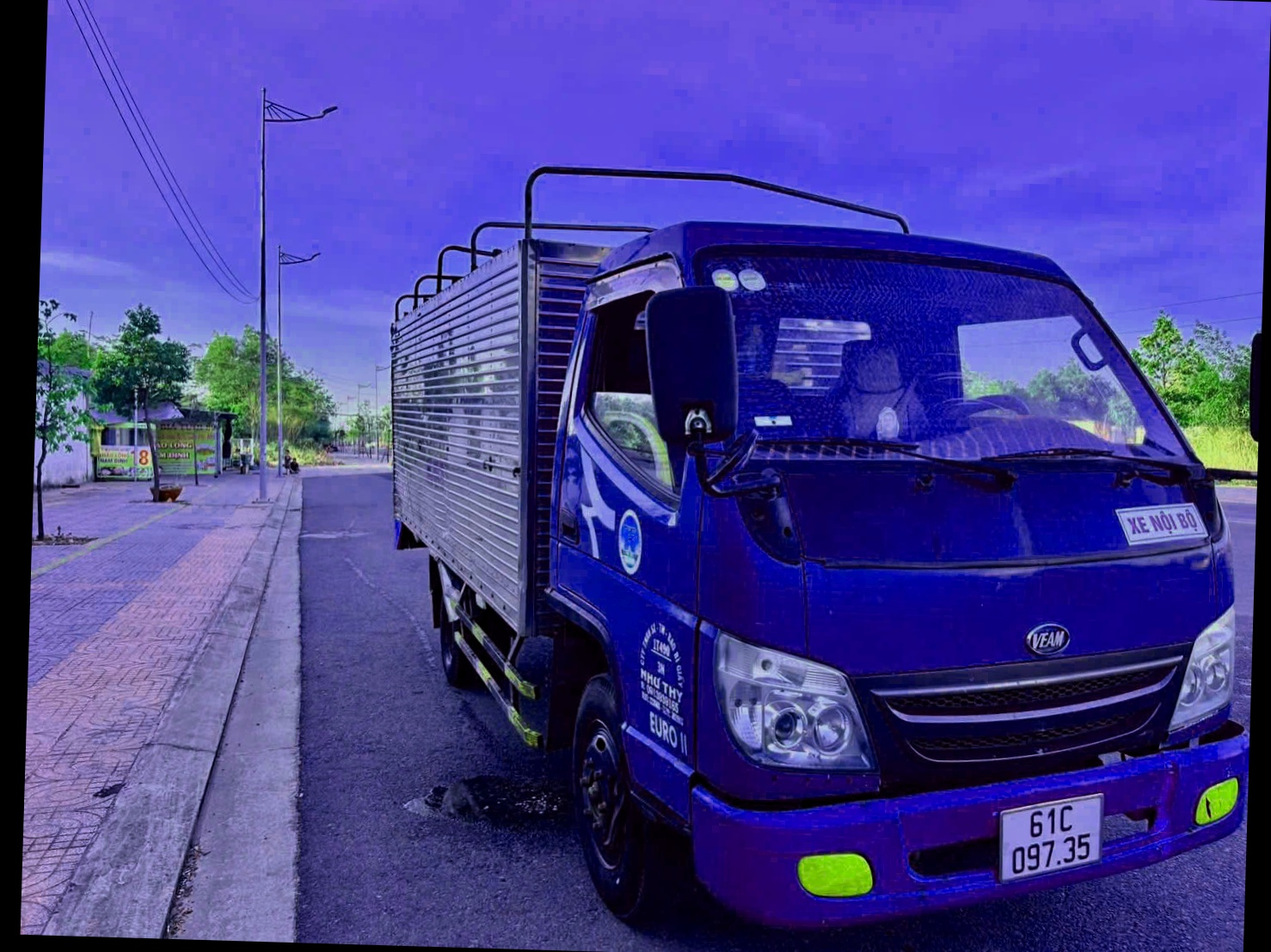Bien-so: (979, 782, 1100, 889)
